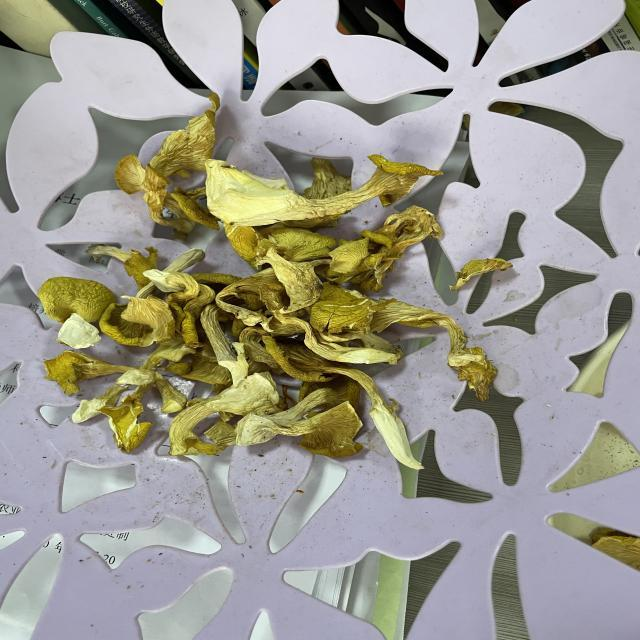Pleurotus citrinopileatus: (131, 91, 630, 452)
